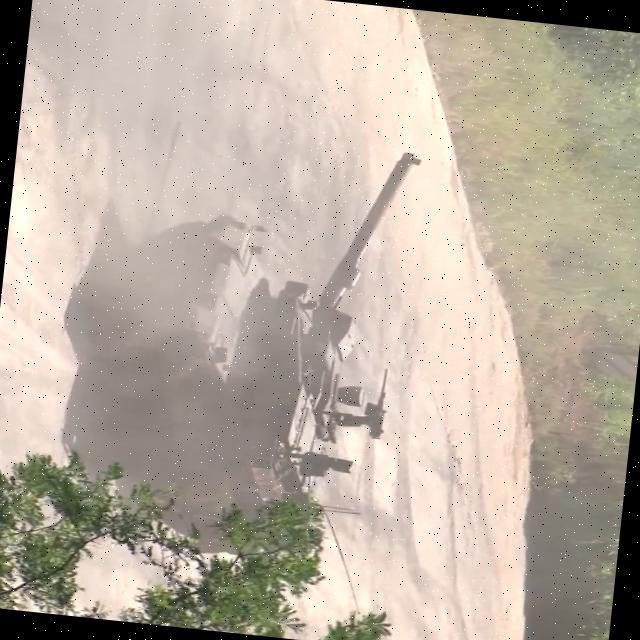korea tank: (64, 118, 427, 577)
